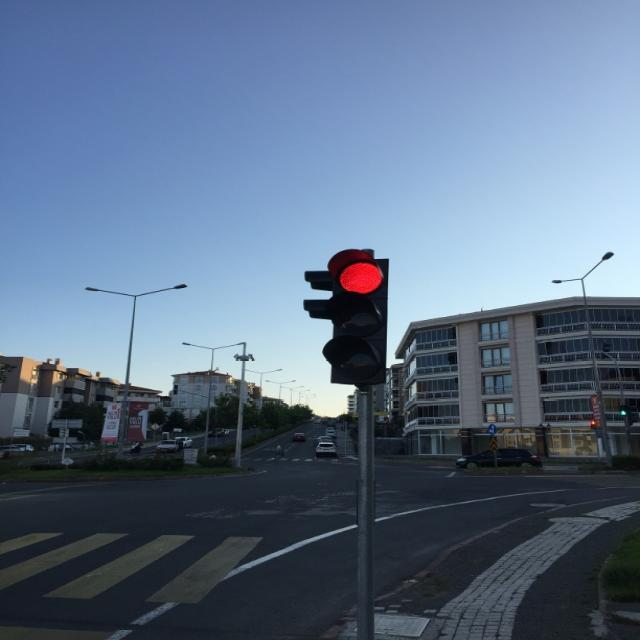kirmizi: (327, 252, 391, 386)
